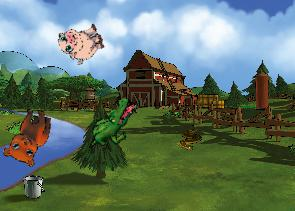bear: (1, 103, 53, 168)
crocodile: (86, 90, 139, 158)
pig: (54, 16, 108, 68)
